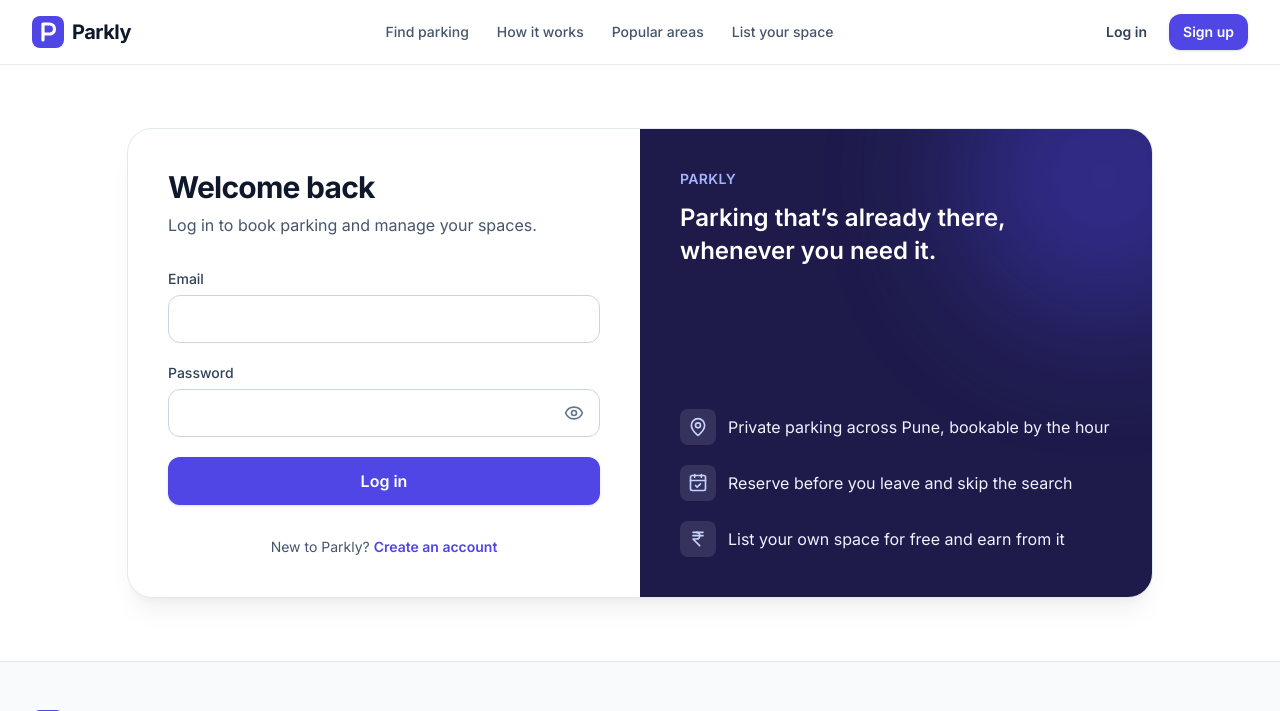
Login › logs in, stores the token and opens the account page
Type "priya@example.com" into the field labelled "Email" at (384, 319), box [168, 295, 600, 343]
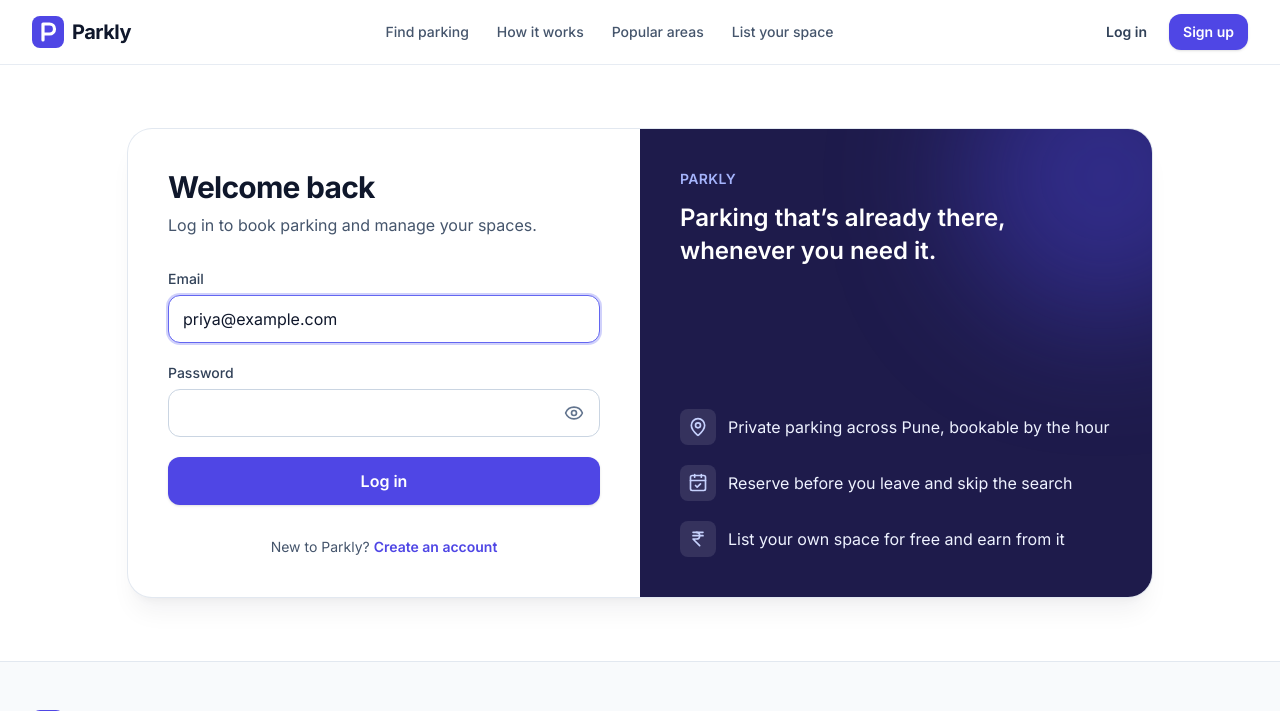
Type "secret123" into the password field labelled "Password" at (384, 413), box [168, 389, 600, 437]
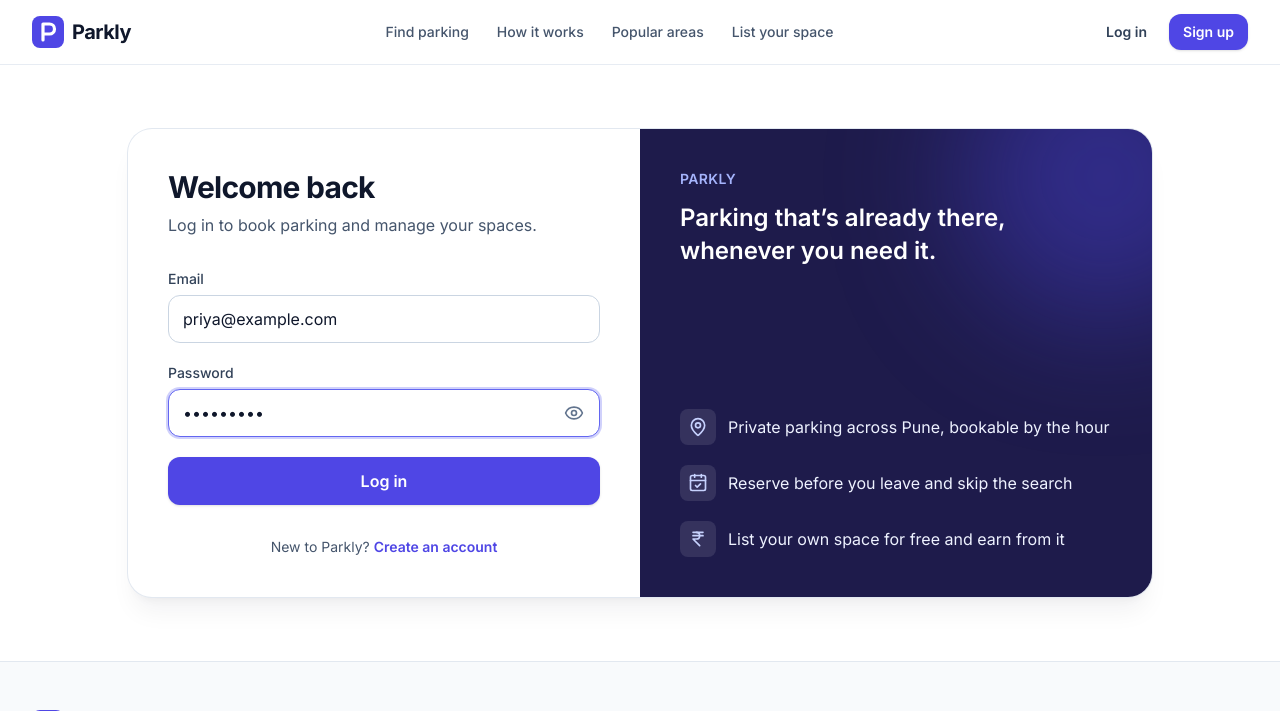
Click the button "Log in" at (384, 481), box [168, 457, 600, 505]
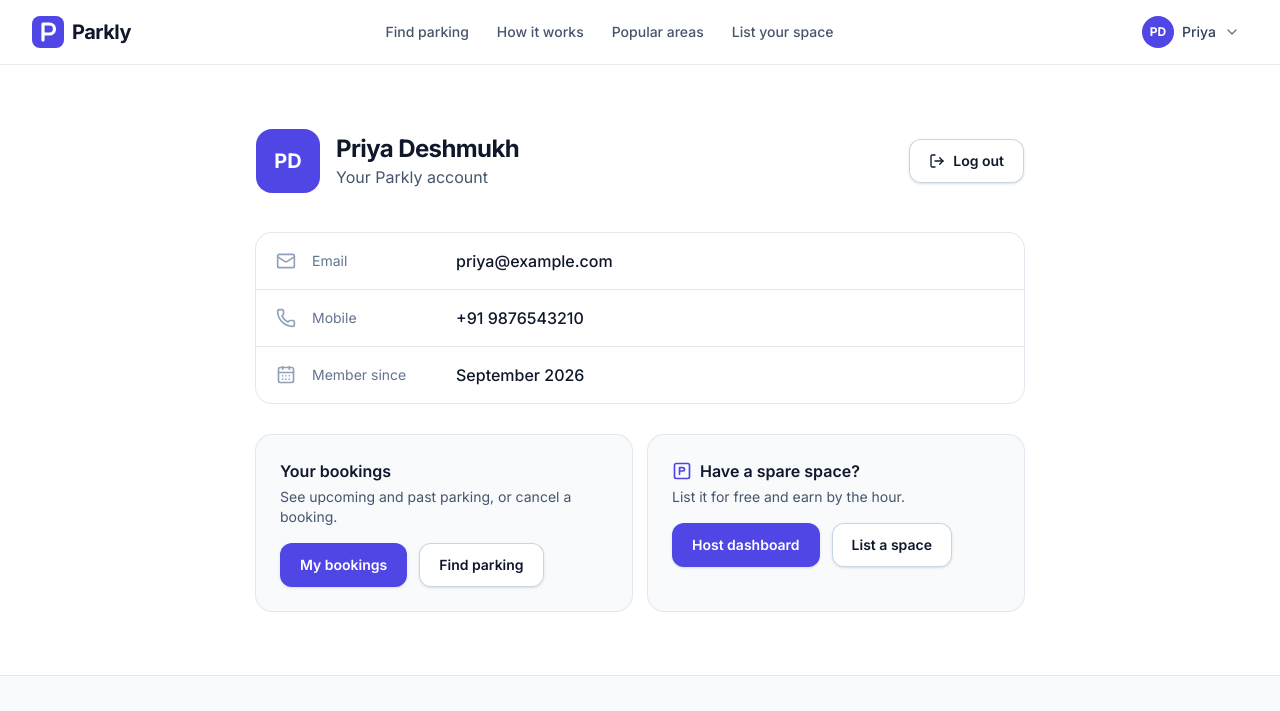
Expected: the heading "Priya Deshmukh" is shown, [336, 133, 519, 165]
